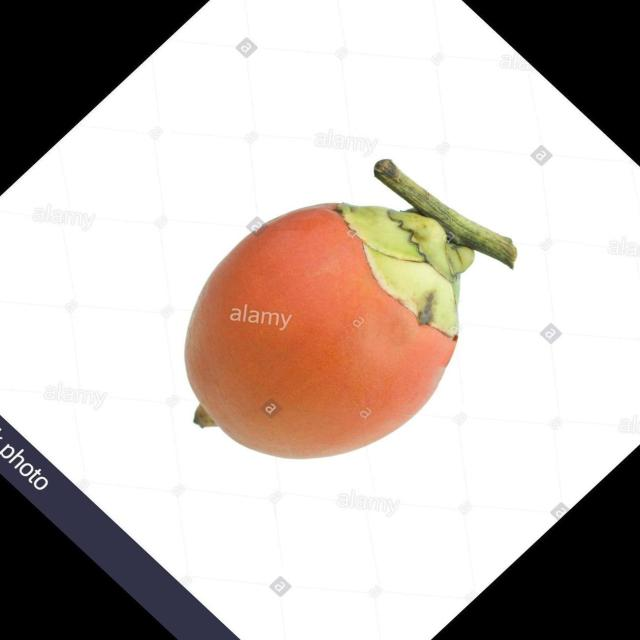good: (183, 161, 516, 463)
